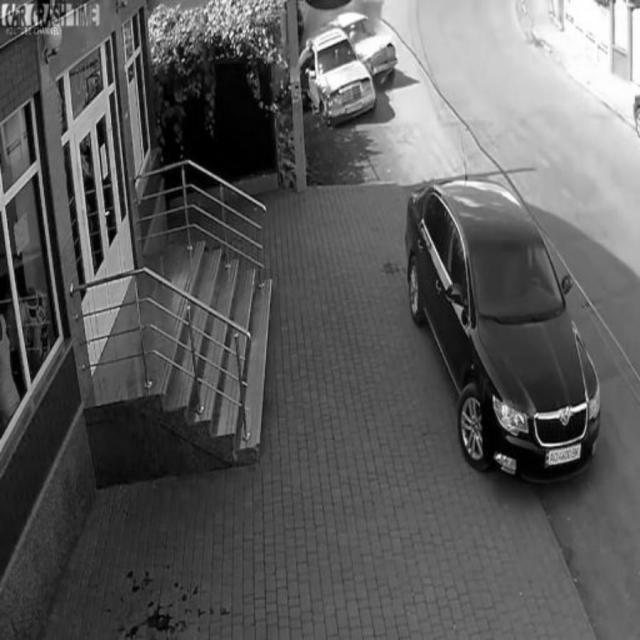accident: (315, 18, 403, 120)
vehicle: (405, 171, 601, 483)
